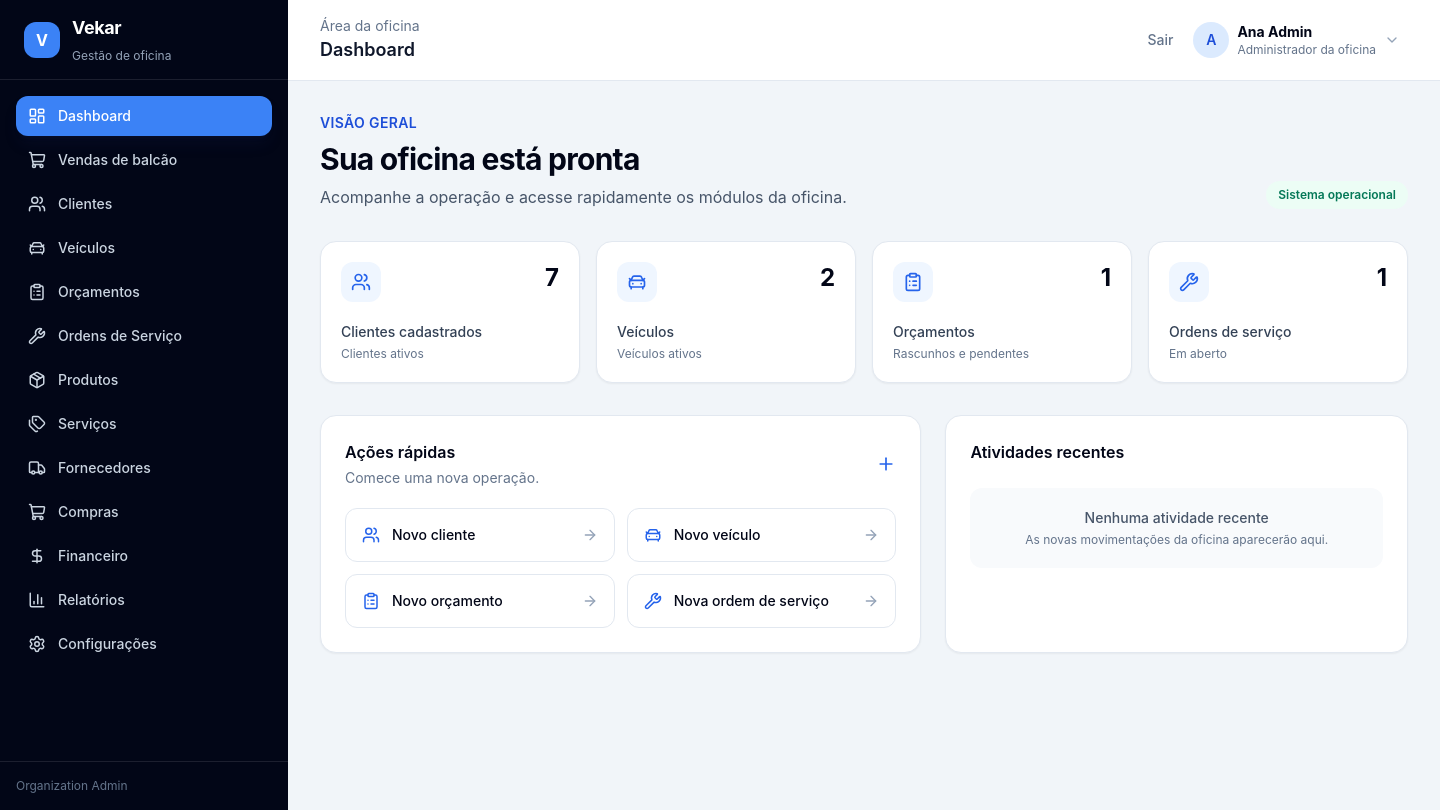
Organization Admin frontend shell › keeps the layout and module navigation persistent while marking the active route
Expected: the heading "Sua oficina está pronta" is shown, [320,141,640,177]
Expected: the text "7" is shown, [545,262,559,294]
Click the link "Clientes".
click(70, 204)  # box [28,195,112,213]
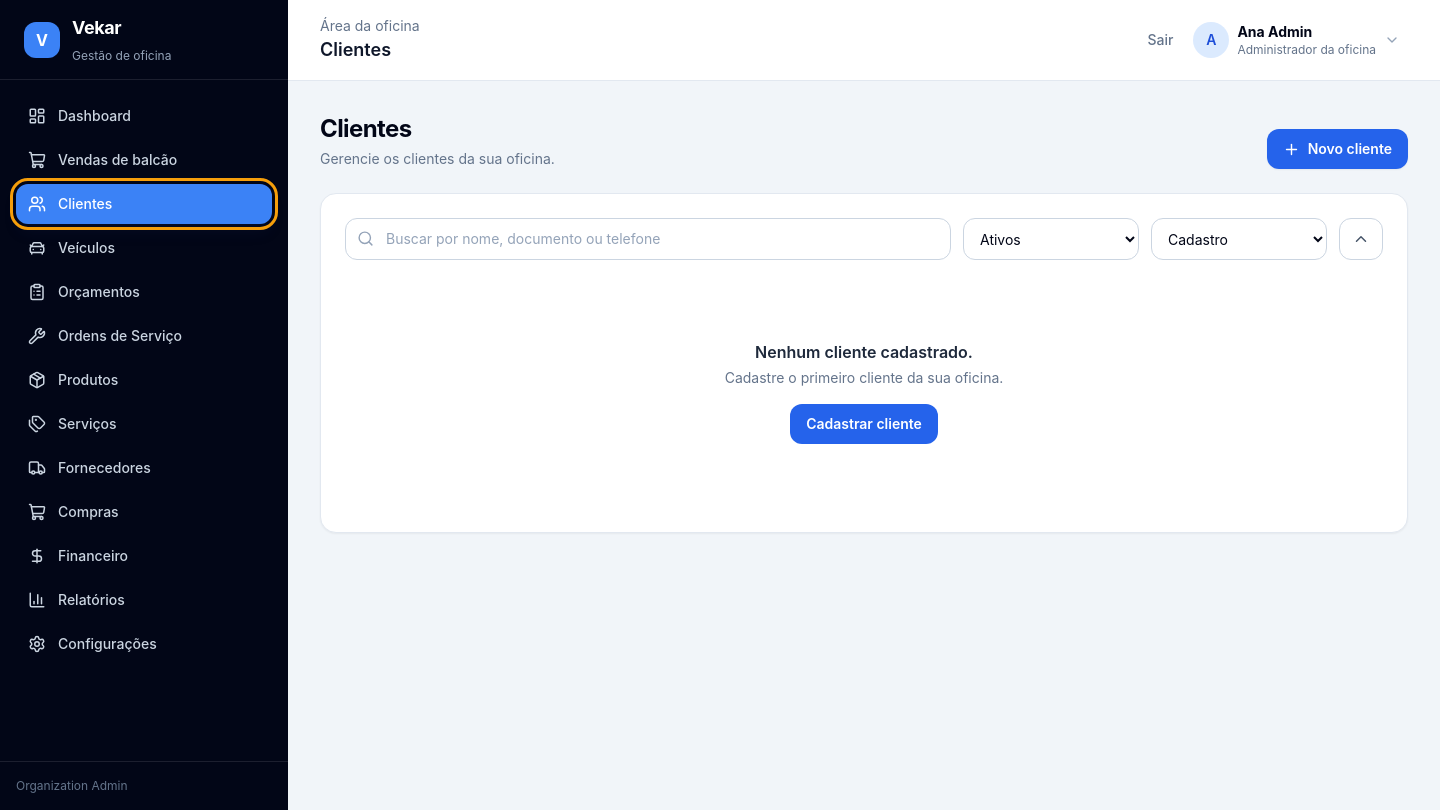
Expected: the navigation bar named "Módulos da oficina" is shown, [0,80,288,761]
Expected: the heading "Clientes" in the row of "Novo cliente" is shown, [320,114,412,143]
Click the link "Financeiro".
click(78, 556)  # box [28,547,128,565]
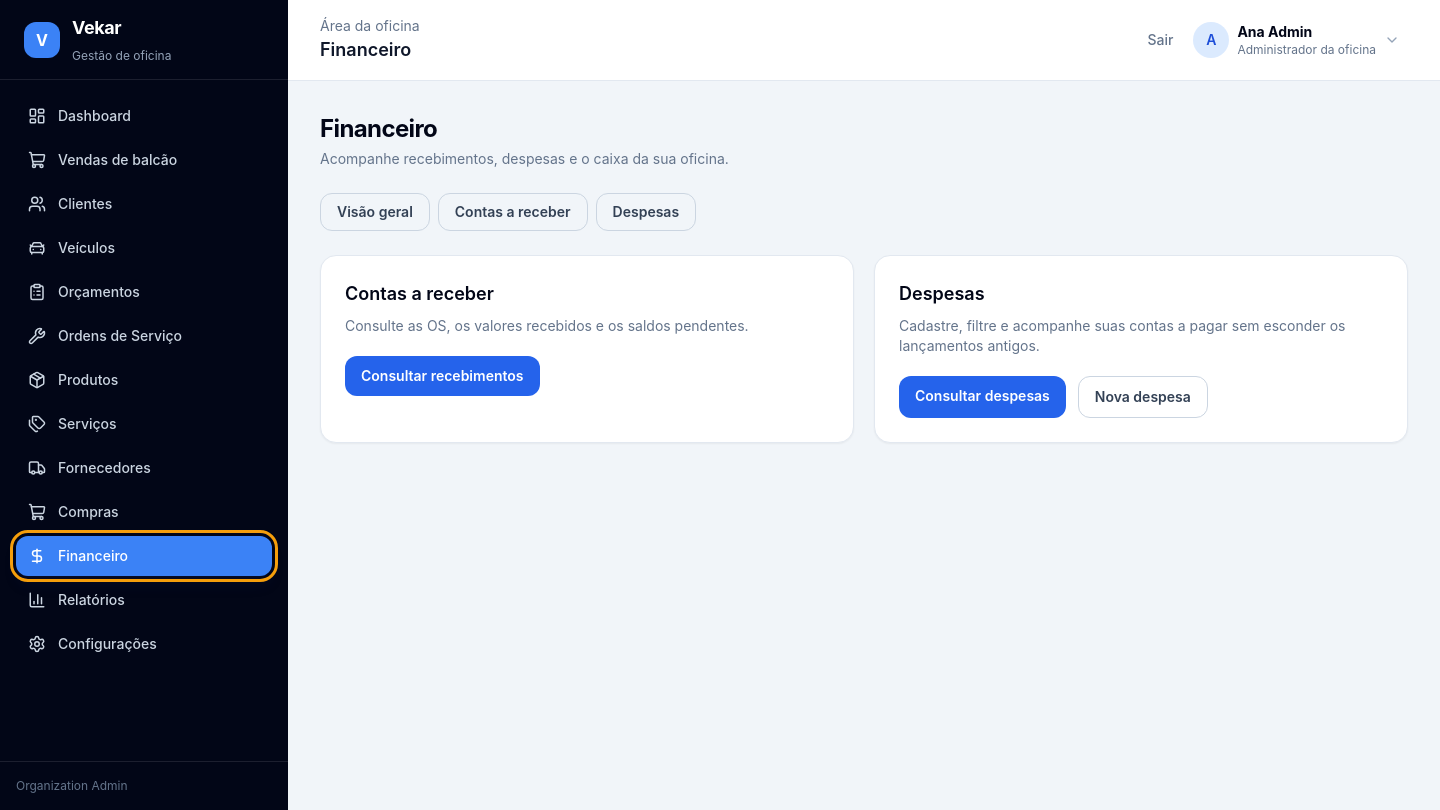
Expected: the number of headings "Financeiro" is 2, [320,36,420,64]; [320,114,437,143]
Click the link "Consultar recebimentos".
click(442, 376)  # box [345,356,540,396]
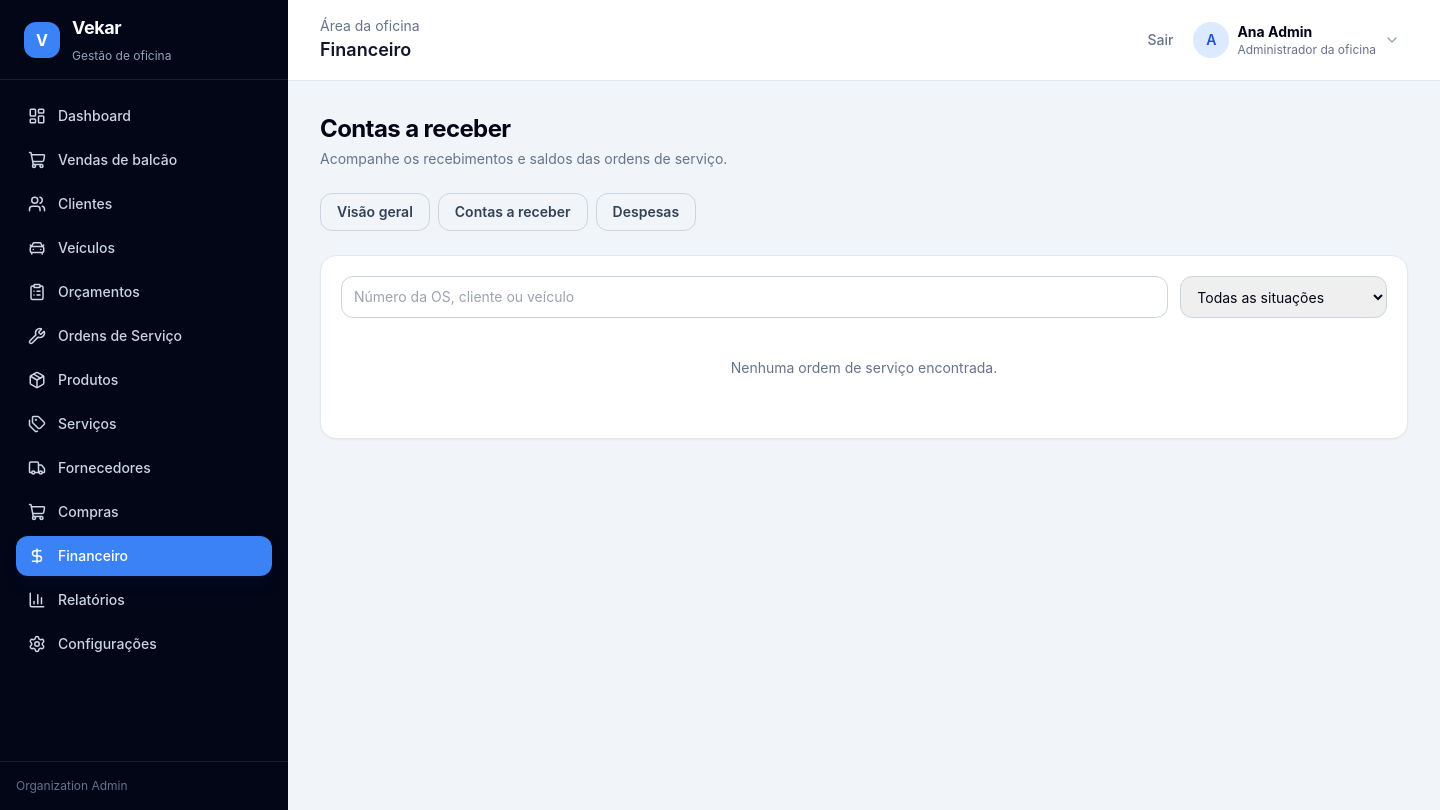
Expected: the heading "Contas a receber" is shown, [320,114,510,143]
